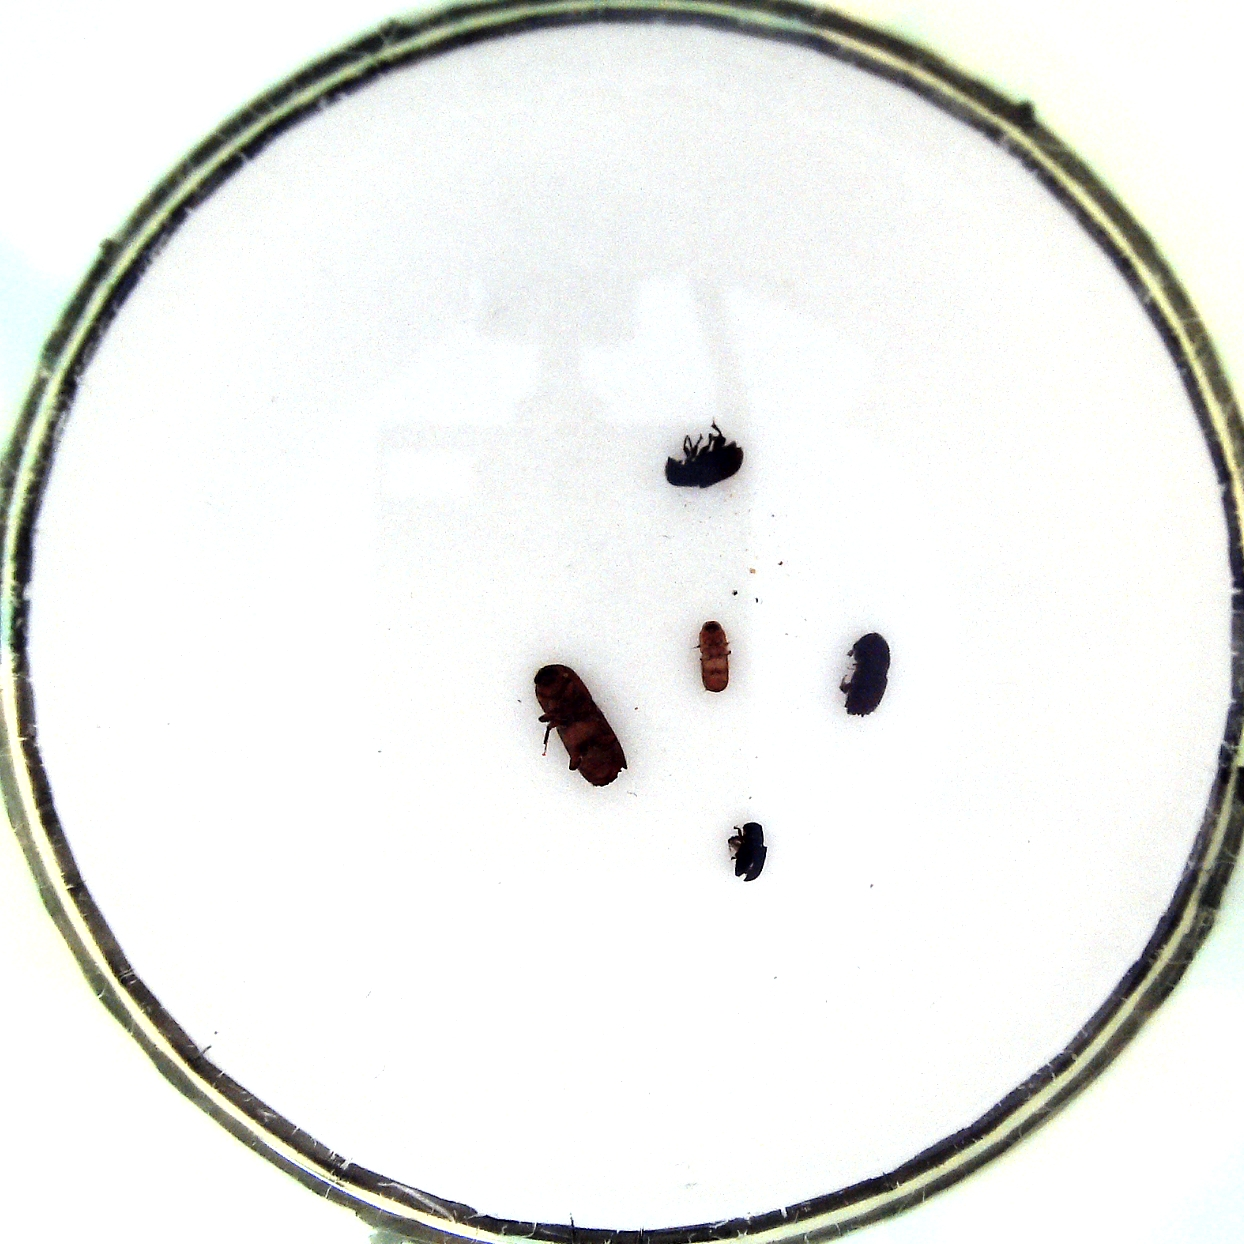Boerner: (525, 663, 627, 787)
Linnaeus: (838, 632, 891, 722)
acuminatus: (691, 620, 737, 702)
armandi: (663, 414, 747, 491)
coleoptera: (725, 820, 774, 886)
